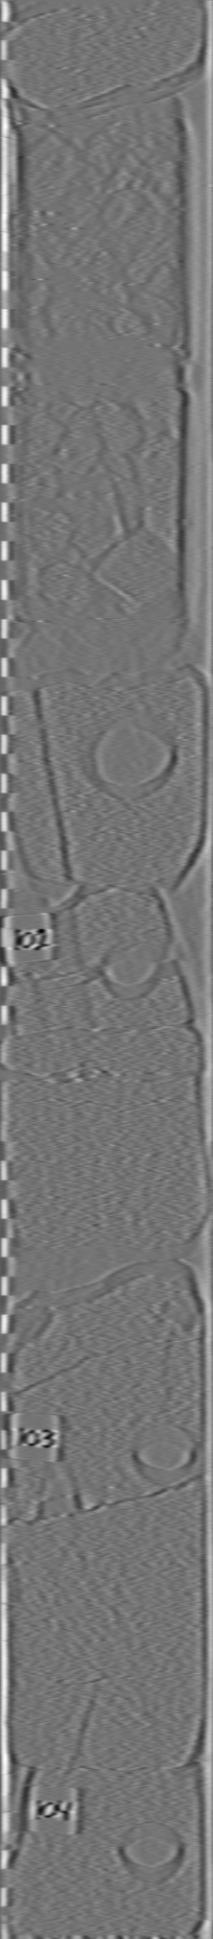hplug: (1, 688, 79, 1036), (116, 1413, 201, 1494), (109, 1817, 191, 1890), (93, 930, 168, 1002)
scal: (79, 697, 183, 804)
